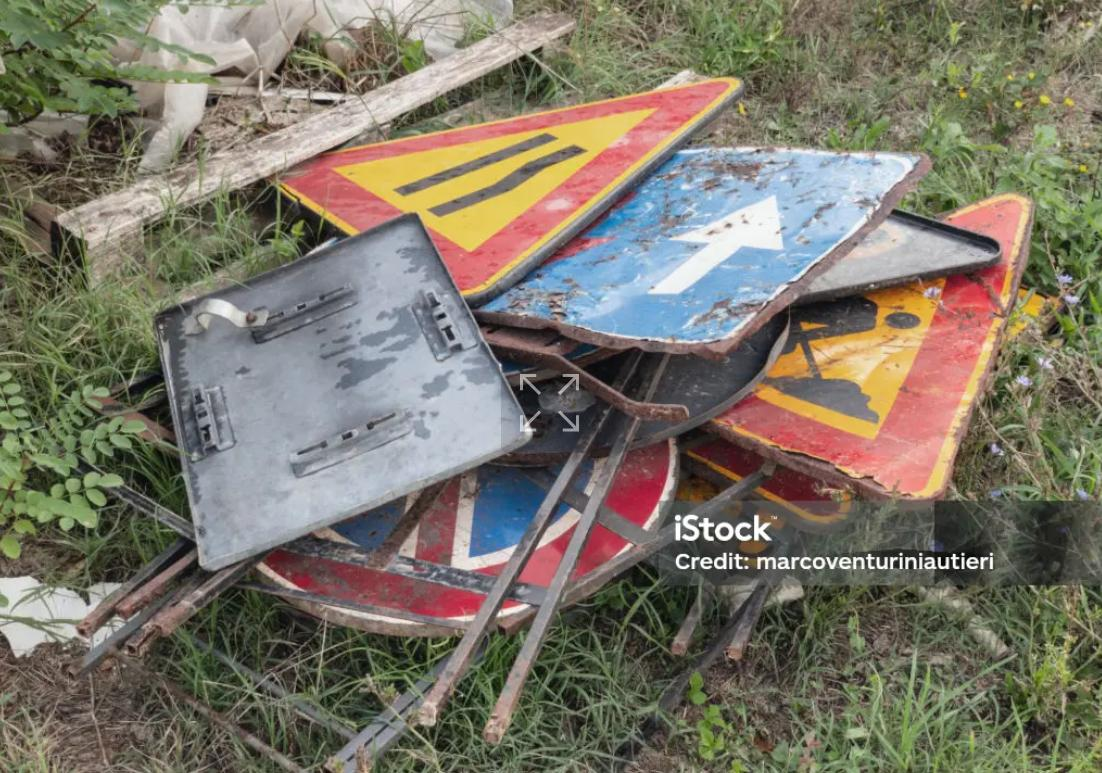obstructed_road_sign: (263, 77, 748, 301), (707, 191, 1034, 502), (480, 150, 926, 345), (253, 438, 680, 627)
